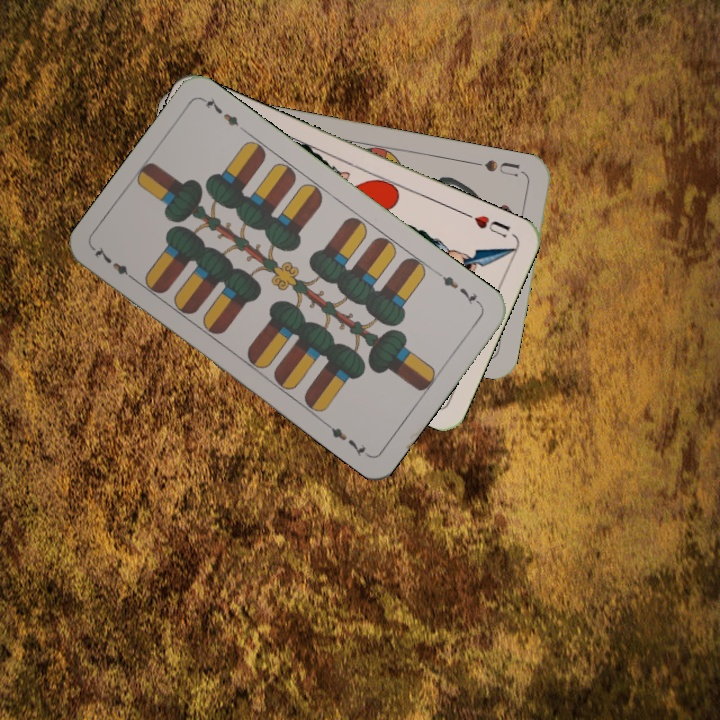E7: (89, 242, 140, 285), (434, 267, 484, 308)
HU: (460, 208, 513, 240)
SU: (468, 155, 526, 180)
